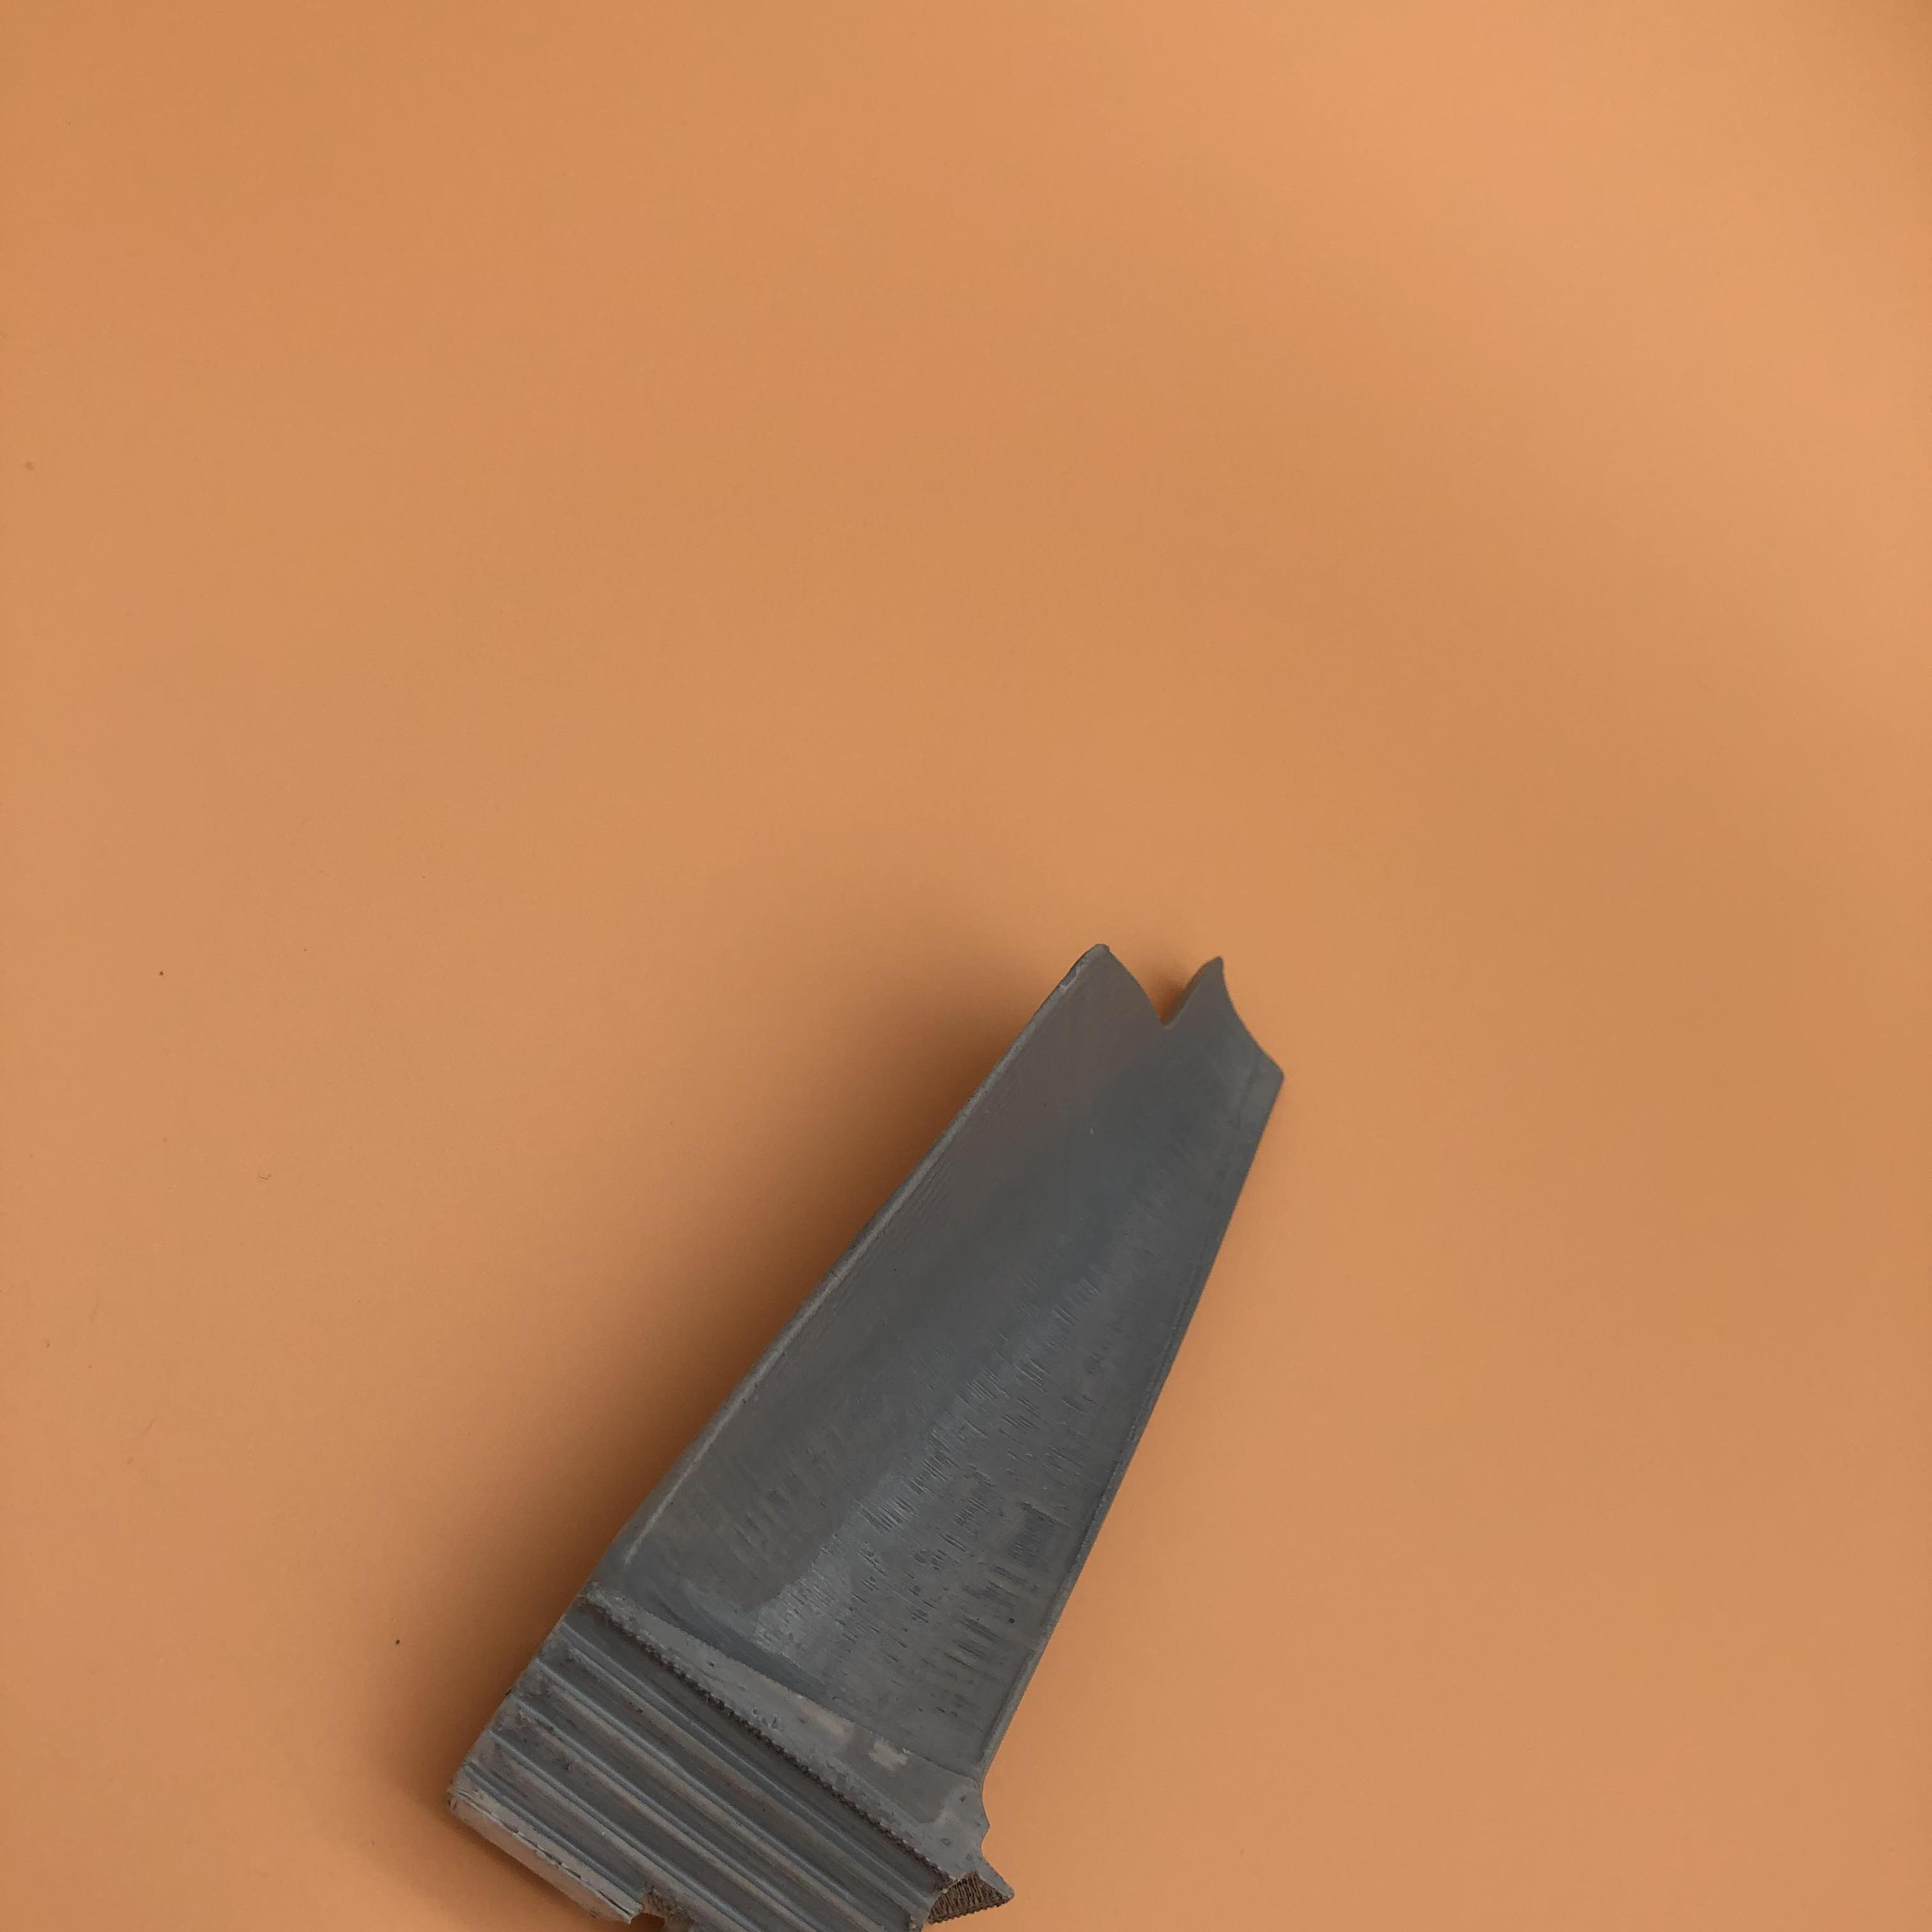fracture: (1076, 948, 1240, 1035)
